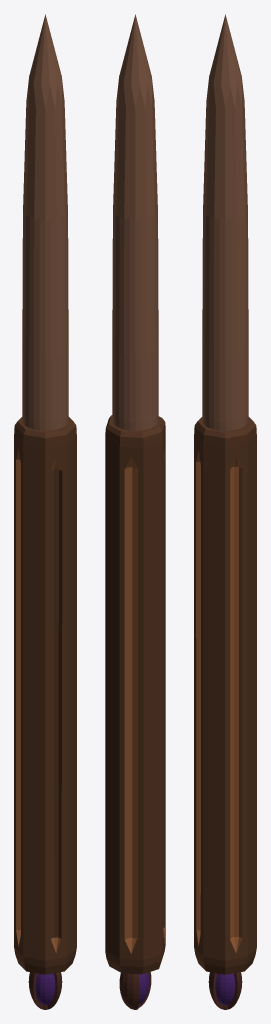
The model's file is Wand 507.glb.
3 views of the same model, side by side, from view 1: azimuth 90°, elevation 25°; view 2: azimuth 150°, elevation 25°; view 3: azimuth 270°, elevation 25° (orthographic).
Visible parts, largest first — view 1: GeneratedWand; view 2: GeneratedWand; view 3: GeneratedWand.
Part boxes in pixels (x1=…): GeneratedWand: x1=14, y1=14, x2=76, y2=1009; GeneratedWand: x1=105, y1=14, x2=165, y2=1009; GeneratedWand: x1=194, y1=14, x2=256, y2=1009.
Bounding box in the file's own units: 0.0289 × 0.5057 × 0.0289.
